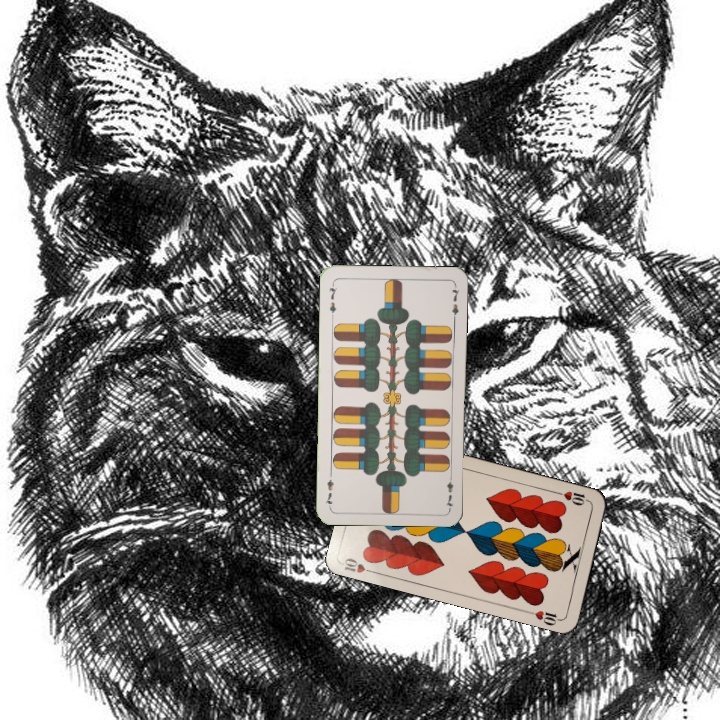E7: (325, 280, 339, 320), (442, 470, 456, 510)
H10: (339, 554, 379, 576), (553, 487, 593, 508)
